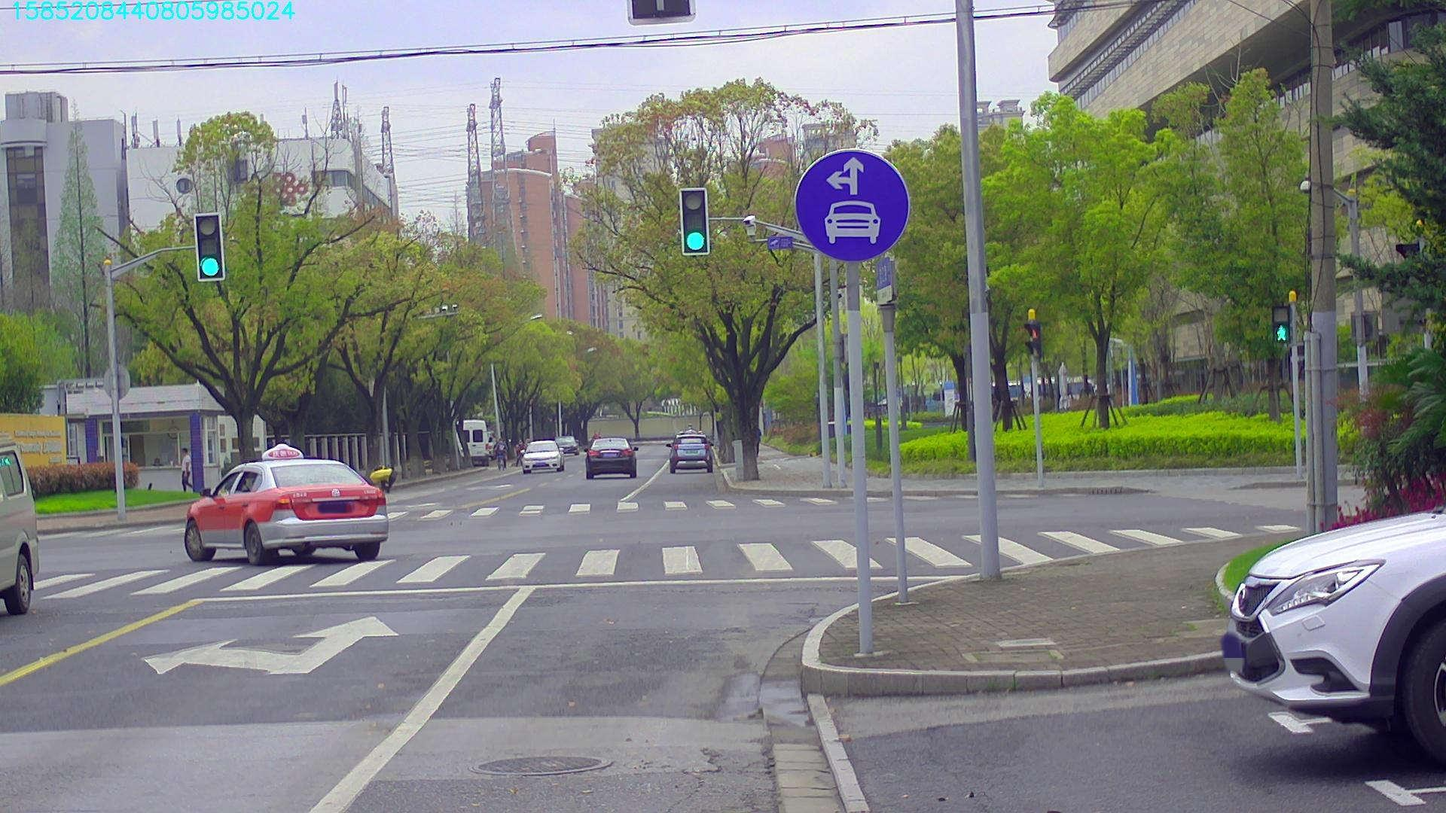green: (194, 215, 222, 280), (682, 187, 706, 254)
